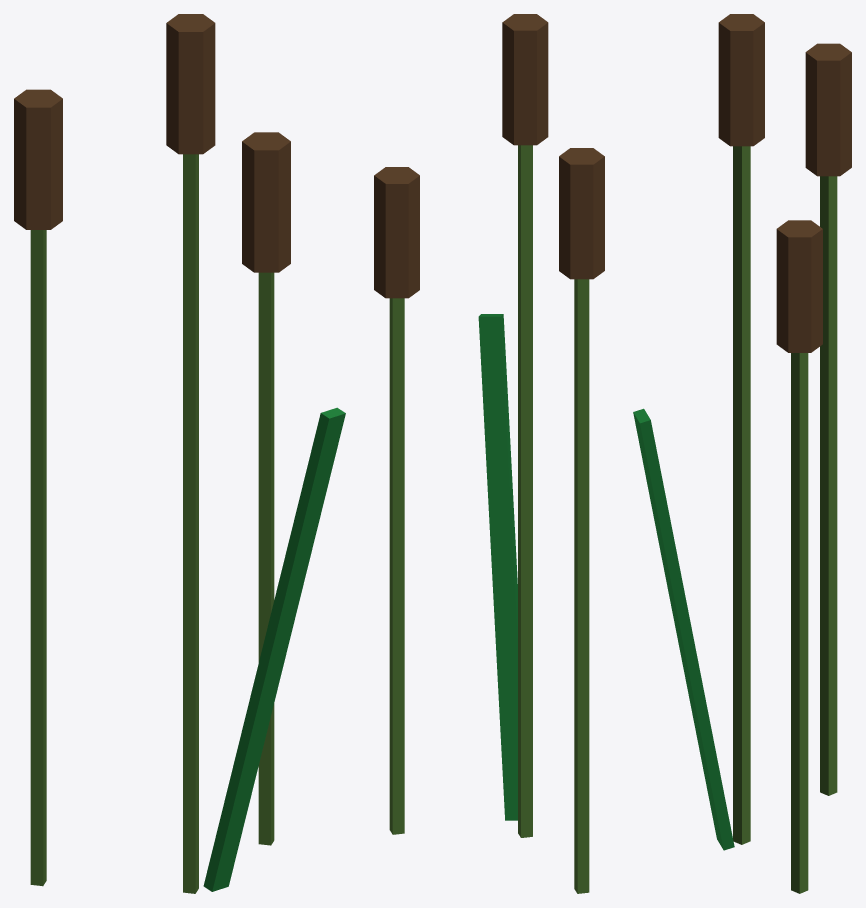
Rendered from cattails.glb.
3 renders of one model, left to right at view 1: azimuth 30°, elevation 25°; view 2: azimuth 150°, elevation 25°; view 3: azimuth 270°, elevation 25°, orthographic. The views are drawn at different scales.
Visible parts, largest first — view 1: cattails; view 2: cattails; view 3: cattails.
Boxes of the visible parts, bbox=[...] form: cattails: bbox=[14, 14, 345, 893]; cattails: bbox=[374, 14, 604, 893]; cattails: bbox=[633, 14, 851, 893].
Bounding box in the file's own units: 0.4693 × 1.56 × 0.3777.
